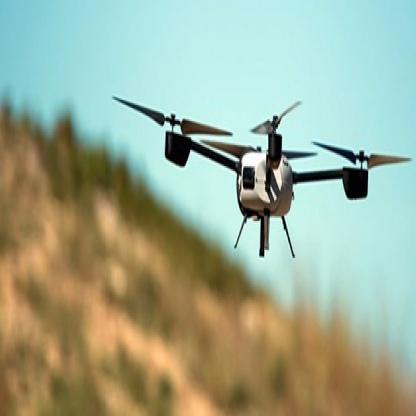drone: (100, 66, 414, 261)
